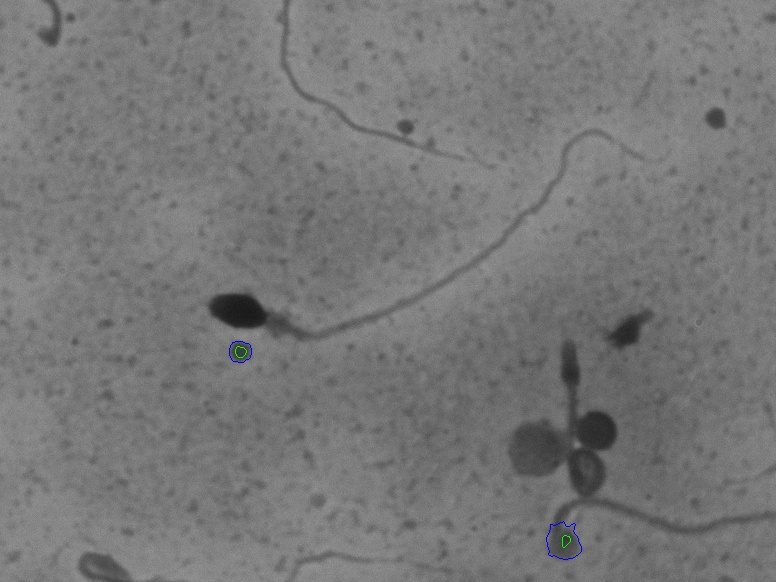Abnormal: (200, 109, 682, 358)
